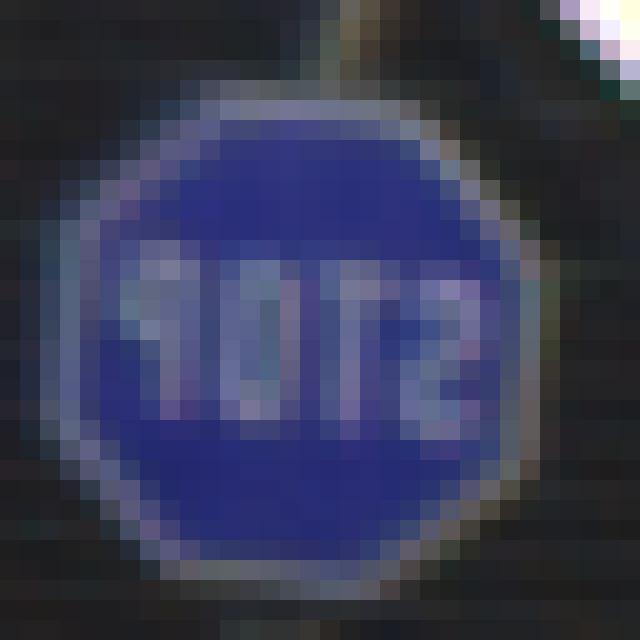STOP: (68, 121, 529, 576)
